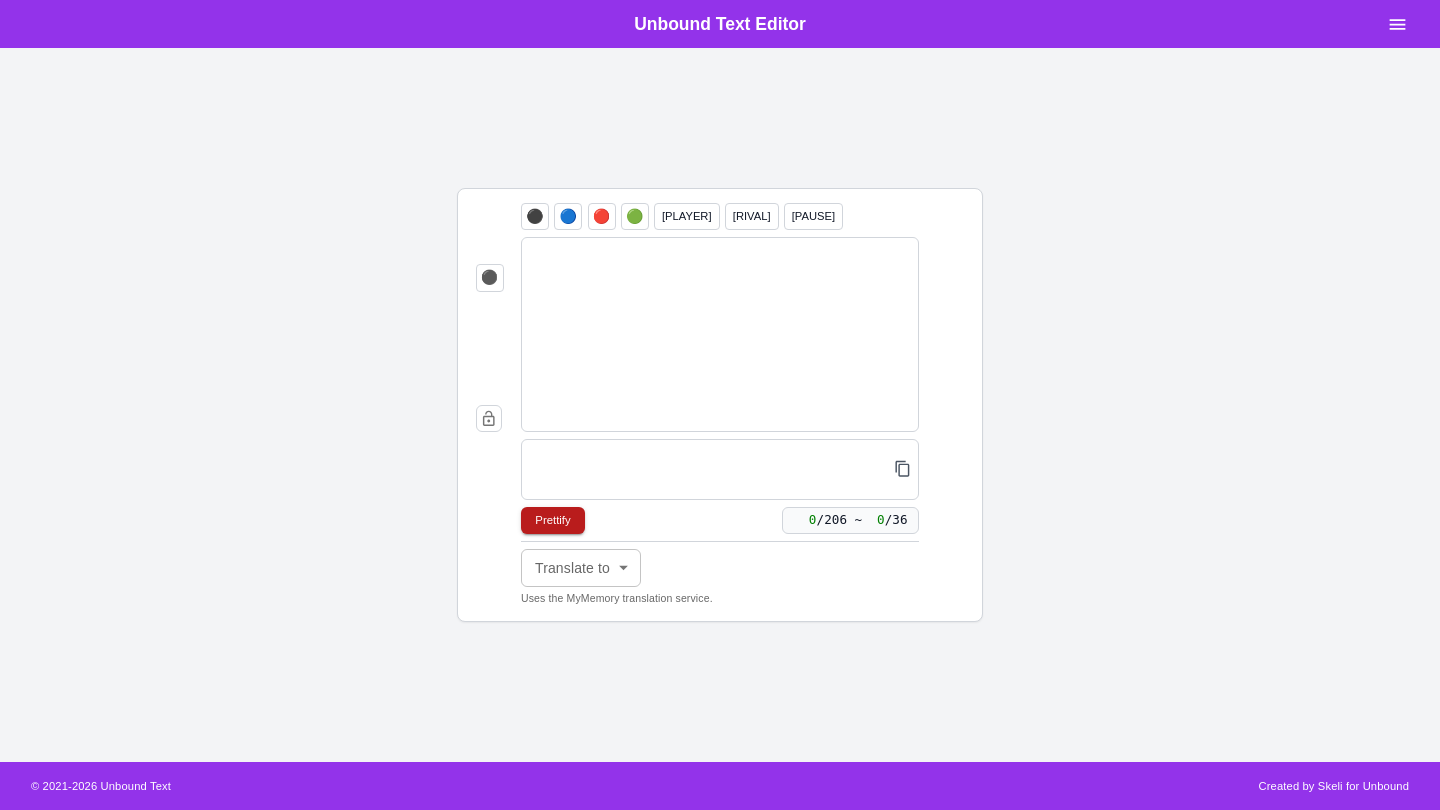
Test: settings placement › the narrow settings popover is a dialog labelled Settings
The width and height of the screenshot is (1440, 810).
Click the button named "Open settings": click(1398, 24) [1379, 6, 1416, 42]
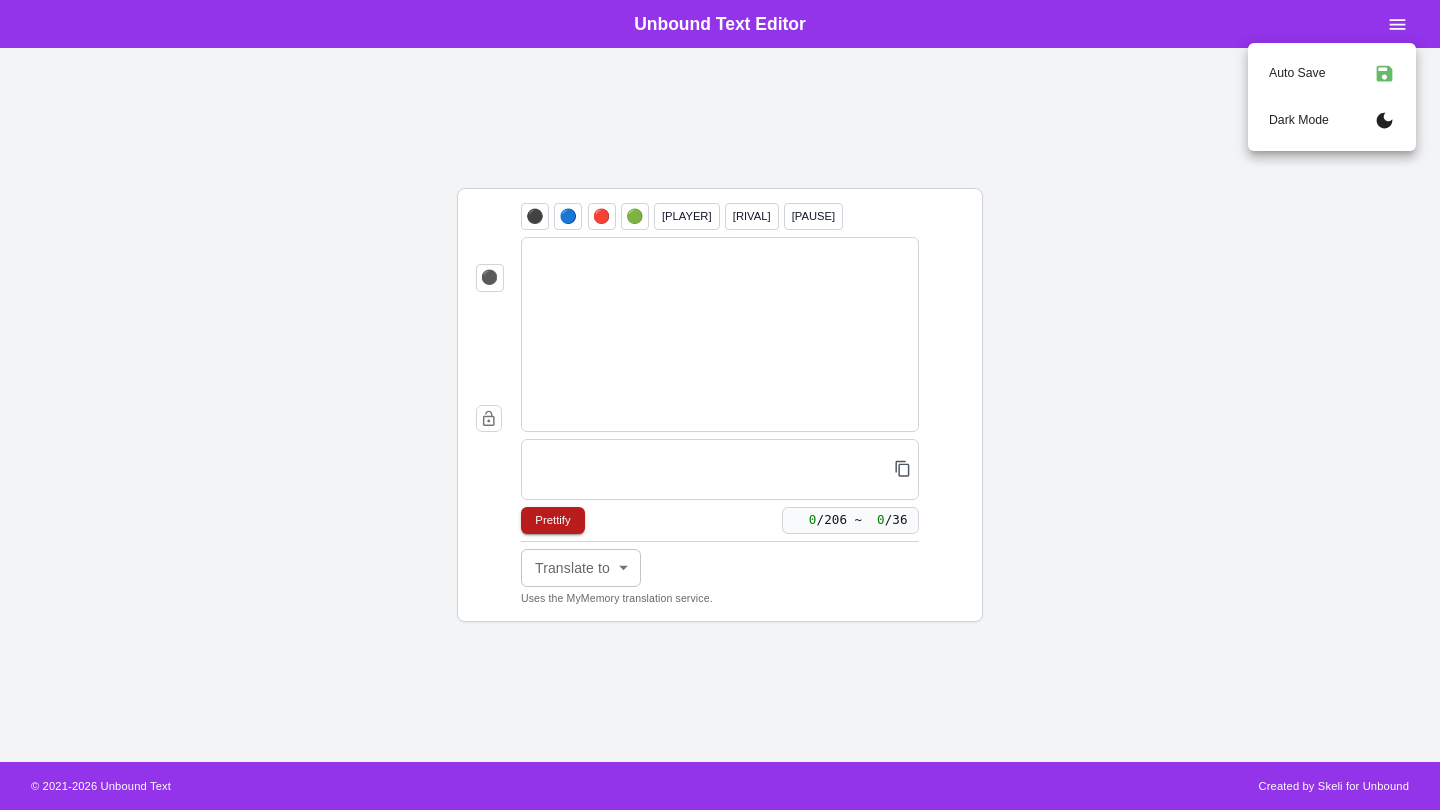
Check: the element named "Settings" is shown, box [1248, 43, 1416, 151]
